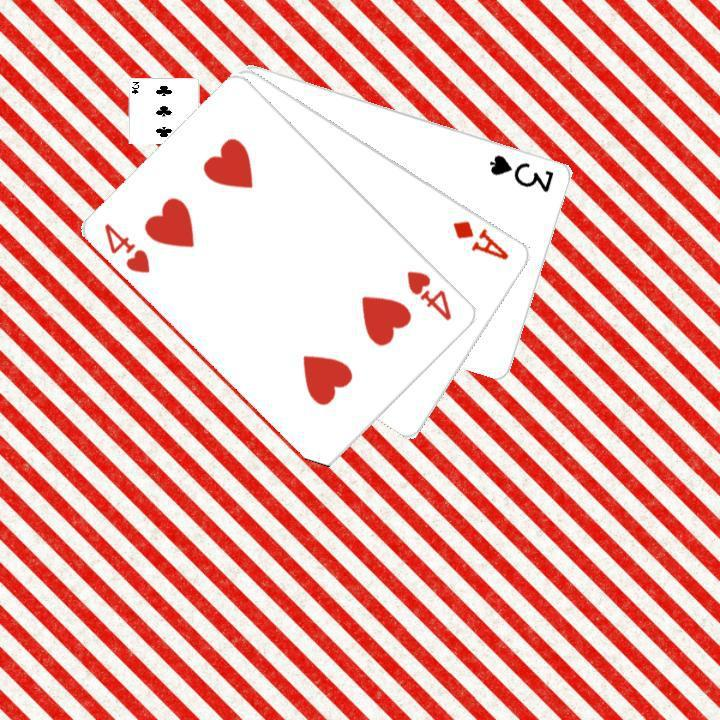3: (485, 149, 557, 194)
4: (402, 266, 455, 323), (100, 219, 153, 276)
A: (449, 215, 512, 262)
